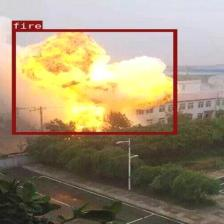fire: (11, 29, 176, 134)
